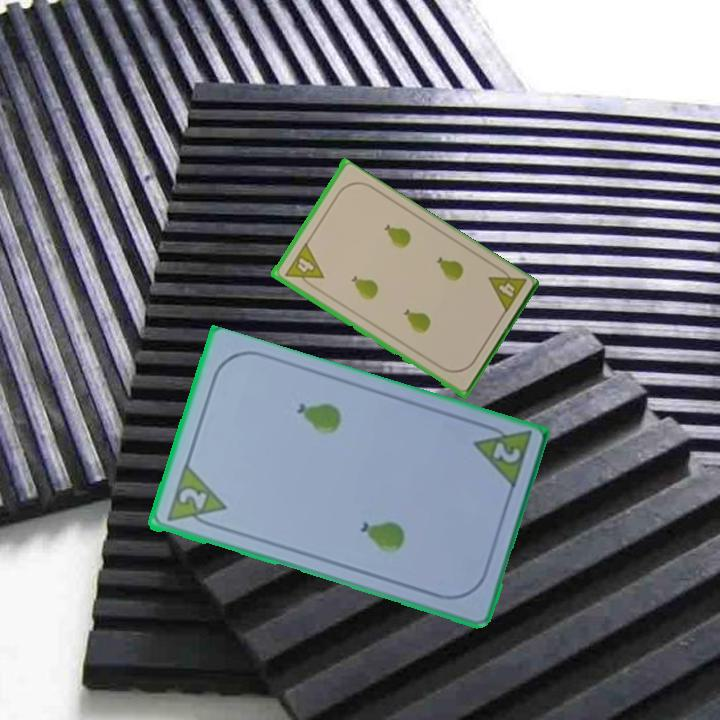2p: (162, 463, 229, 533), (488, 438, 523, 466)
4p: (484, 262, 529, 317), (281, 240, 326, 292)
